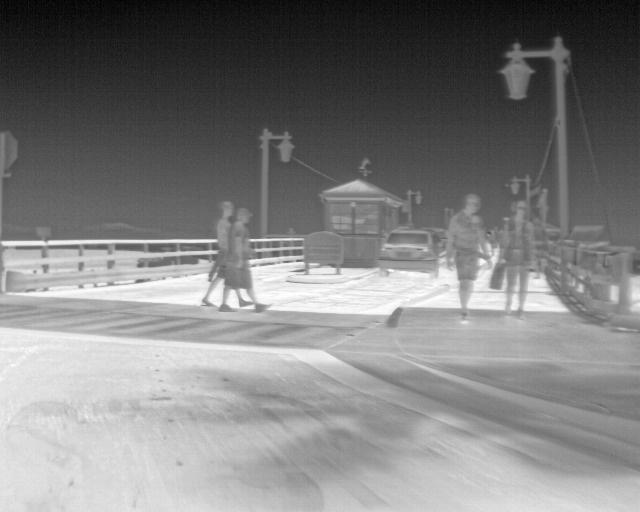bicycle: (377, 226, 439, 278)
empty: (438, 194, 491, 323), (218, 207, 273, 311), (494, 197, 541, 317), (197, 202, 234, 306)
